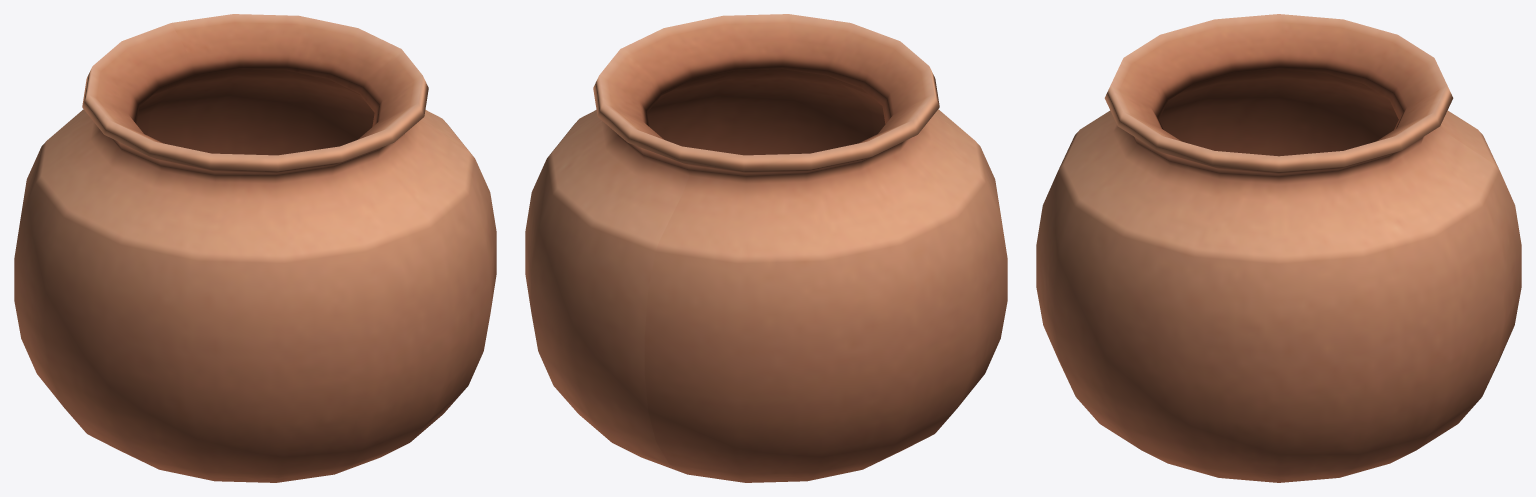
File: Prop_Kaom_open.fbx
The picture shows the model from 3 angles, left to right: view 1: azimuth 30°, elevation 25°; view 2: azimuth 150°, elevation 25°; view 3: azimuth 270°, elevation 25°; orthographic projection.
Parts seen in each view (by area): view 1: Prop_Kaom_open; view 2: Prop_Kaom_open; view 3: Prop_Kaom_open.
Boxes of the visible parts, left/top/right/bottom form: Prop_Kaom_open: left=14, top=14, right=496, bottom=482; Prop_Kaom_open: left=525, top=14, right=1007, bottom=482; Prop_Kaom_open: left=1036, top=14, right=1521, bottom=482.
Size of the model in its own units: 50.88 by 39.89 by 50.88.
